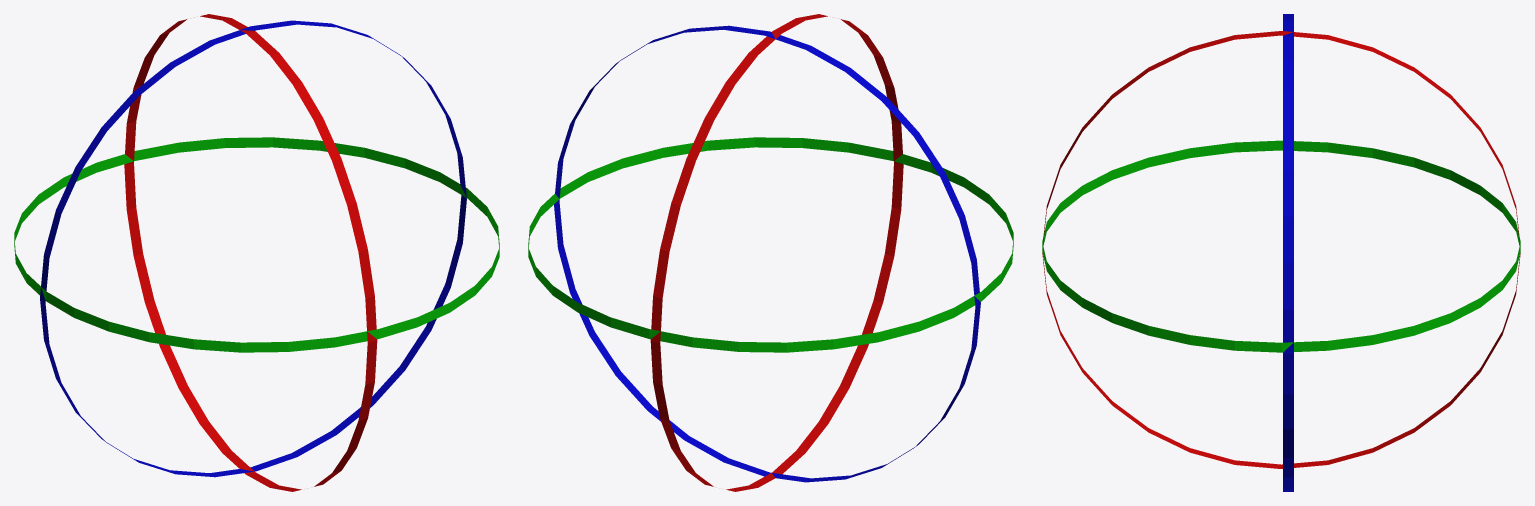
File: oxygizmoRotation.obj
3 renders of one model, left to right at view 1: azimuth 30°, elevation 25°; view 2: azimuth 150°, elevation 25°; view 3: azimuth 270°, elevation 25°, orthographic.
Visible parts, largest first — view 1: Sphere.002_Cube.001, Sphere_Cube.003, Sphere.001_Cube.002; view 2: Sphere.002_Cube.001, Sphere_Cube.003, Sphere.001_Cube.002; view 3: Sphere.002_Cube.001, Sphere.001_Cube.002, Sphere_Cube.003.
Boxes of the visible parts, box(x1,y1,x2,y2) form: Sphere.002_Cube.001: box(14, 137, 499, 352); Sphere_Cube.003: box(124, 14, 377, 491); Sphere.001_Cube.002: box(40, 20, 466, 477); Sphere.002_Cube.001: box(528, 137, 1013, 352); Sphere_Cube.003: box(650, 14, 903, 491); Sphere.001_Cube.002: box(554, 25, 980, 482); Sphere.002_Cube.001: box(1042, 140, 1520, 352); Sphere.001_Cube.002: box(1283, 14, 1293, 491); Sphere_Cube.003: box(1042, 31, 1520, 468).
Size of the model in its own units: 3.1 by 3.1 by 3.1.
